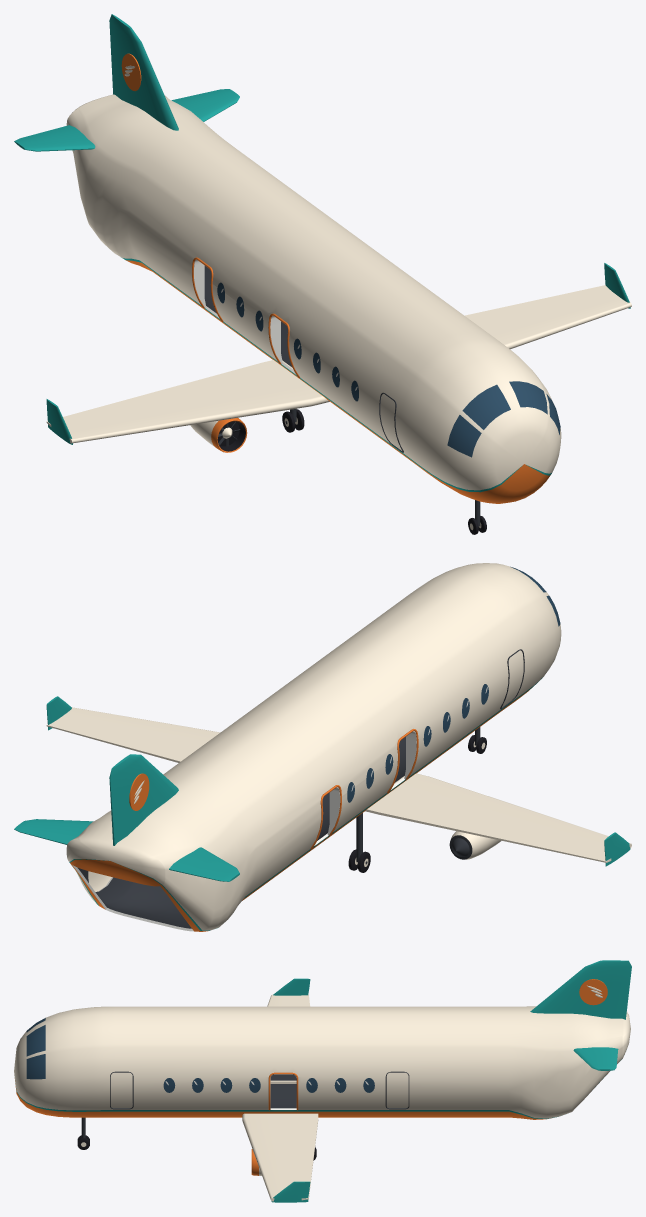
File: AvionExterior.fbx
The picture shows the model from 3 angles, top to bottom: view 1: azimuth 30°, elevation 25°; view 2: azimuth 150°, elevation 25°; view 3: azimuth 270°, elevation 25°; orthographic projection. The views are drawn at different scales.
Visible parts, largest first — view 1: AvionExterior; view 2: AvionExterior; view 3: AvionExterior.
Part boxes in pixels (<box>): AvionExterior: <box>14,14,631,534</box>; AvionExterior: <box>14,563,631,931</box>; AvionExterior: <box>14,960,631,1202</box>.
Size of the model in its own units: 76.16 by 32.6 by 97.46.
Materials: 1 (1 with a texture image).
